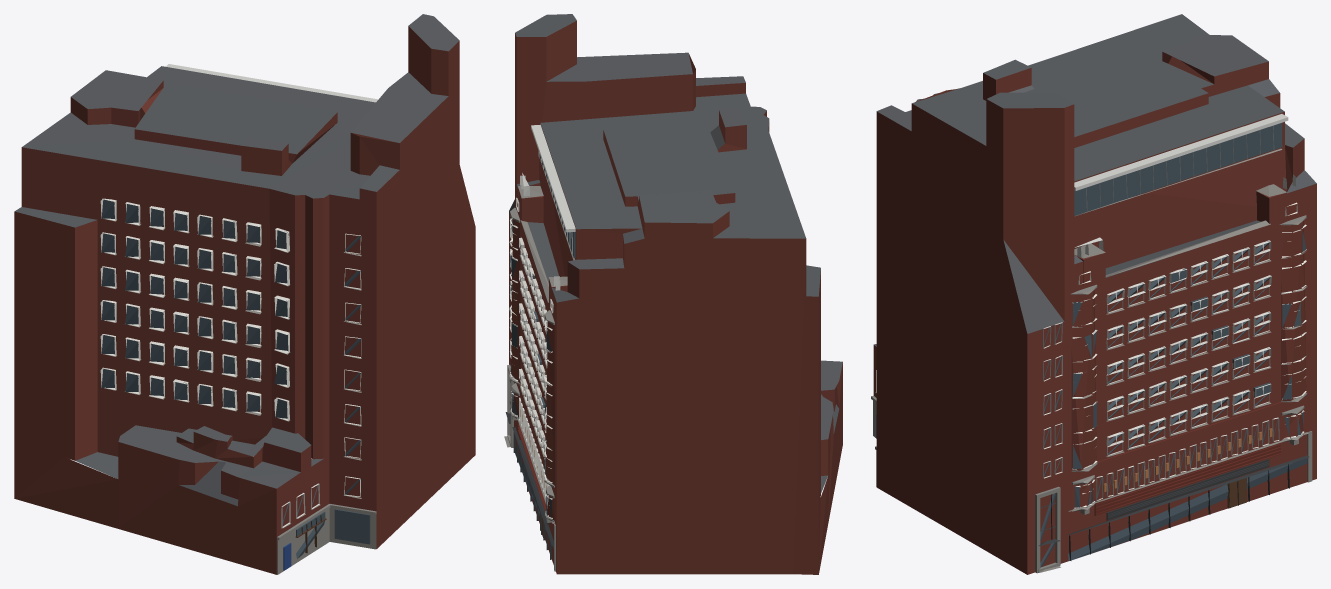
Rendered from atlanta-stadhouderskade.lod1.glb.
3 renders of one model, left to right at view 1: azimuth 30°, elevation 25°; view 2: azimuth 150°, elevation 25°; view 3: azimuth 270°, elevation 25°, orthographic. The views are drawn at different scales.
Visible parts, largest first — view 1: atlanta-stadhouderskade; view 2: atlanta-stadhouderskade; view 3: atlanta-stadhouderskade.
Part boxes in pixels (x1,y1,x2,y2): atlanta-stadhouderskade: (14,14,475,574); atlanta-stadhouderskade: (504,14,842,574); atlanta-stadhouderskade: (871,14,1316,574).
Bounding box in the file's own units: 40.6 × 42.93 × 38.11.
